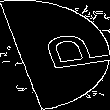P_W: (9, 31, 101, 79)
